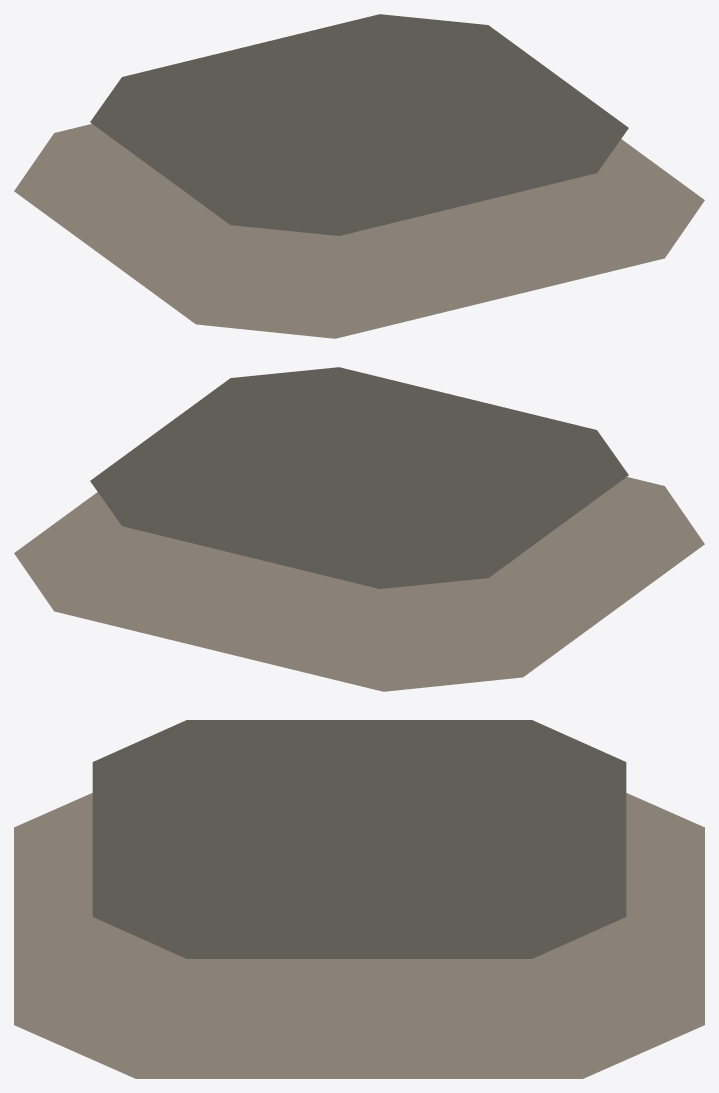
The model's file is 1401-Buildings-shell-pieces-roof-polygon-plan-emitPolygonRoof-12-triangles-23-00-x-3-.glb.
3 renders of one model, top to bottom at view 1: azimuth 30°, elevation 25°; view 2: azimuth 150°, elevation 25°; view 3: azimuth 270°, elevation 25°, orthographic. The views are drawn at different scales.
Visible parts, largest first — view 1: emitPolygonRoof; view 2: emitPolygonRoof; view 3: emitPolygonRoof.
Boxes of the visible parts, x1,y1,x2,y2 form: emitPolygonRoof: [14, 14, 704, 338]; emitPolygonRoof: [14, 367, 704, 691]; emitPolygonRoof: [14, 720, 704, 1078].
Bounding box in the file's own units: 23 × 3.05 × 22.
